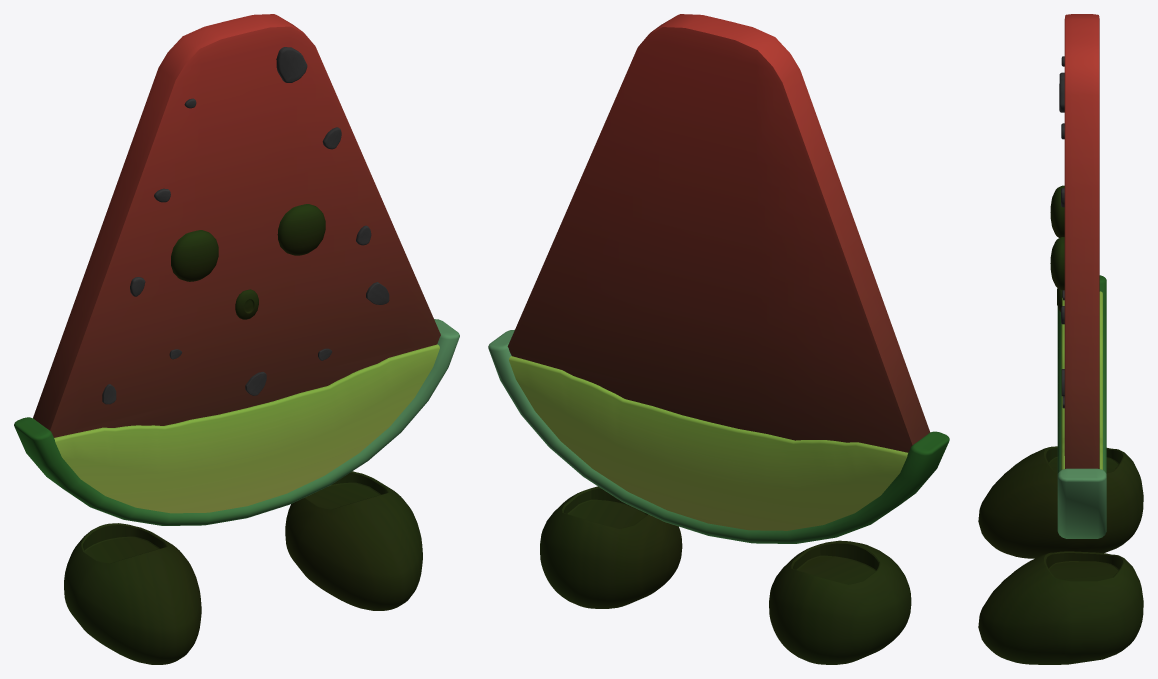
Rendered from Watermelon.fbx.
3 renders of one model, left to right at view 1: azimuth 30°, elevation 25°; view 2: azimuth 150°, elevation 25°; view 3: azimuth 270°, elevation 25°, orthographic. The views are drawn at different scales.
Parts seen in each view (by area): view 1: WatermelonBody, WatermelonGrad, LegsRetop1.001, LegsRetop2.001, WatermelonBottom, Eyes, Seeds_Face; view 2: WatermelonBody, WatermelonGrad, LegsRetop1.001, LegsRetop2.001, WatermelonBottom; view 3: WatermelonBody, LegsRetop2.001, LegsRetop1.001, WatermelonBottom, Eyes, WatermelonGrad, Seeds_Face.
Part boxes in pixels (box(x1,y1,x2,y2)): WatermelonBody: box(33, 14, 440, 437); WatermelonGrad: box(54, 344, 439, 513); LegsRetop1.001: box(64, 523, 201, 664); LegsRetop2.001: box(285, 471, 422, 610); WatermelonBottom: box(14, 319, 459, 525); Eyes: box(171, 204, 325, 281); Seeds_Face: box(102, 47, 389, 404); WatermelonBody: box(507, 14, 930, 452); WatermelonGrad: box(509, 356, 907, 530); LegsRetop1.001: box(769, 540, 911, 664); LegsRetop2.001: box(540, 486, 682, 608); WatermelonBottom: box(488, 329, 949, 543); WatermelonBody: box(1064, 14, 1099, 468); LegsRetop2.001: box(978, 551, 1143, 664); LegsRetop1.001: box(978, 446, 1143, 558); WatermelonBottom: box(1057, 275, 1106, 538); Eyes: box(1050, 185, 1064, 290); WatermelonGrad: box(1061, 291, 1102, 469); Seeds_Face: box(1059, 56, 1064, 408).
Size of the model in its own units: 387 by 506 by 132.
